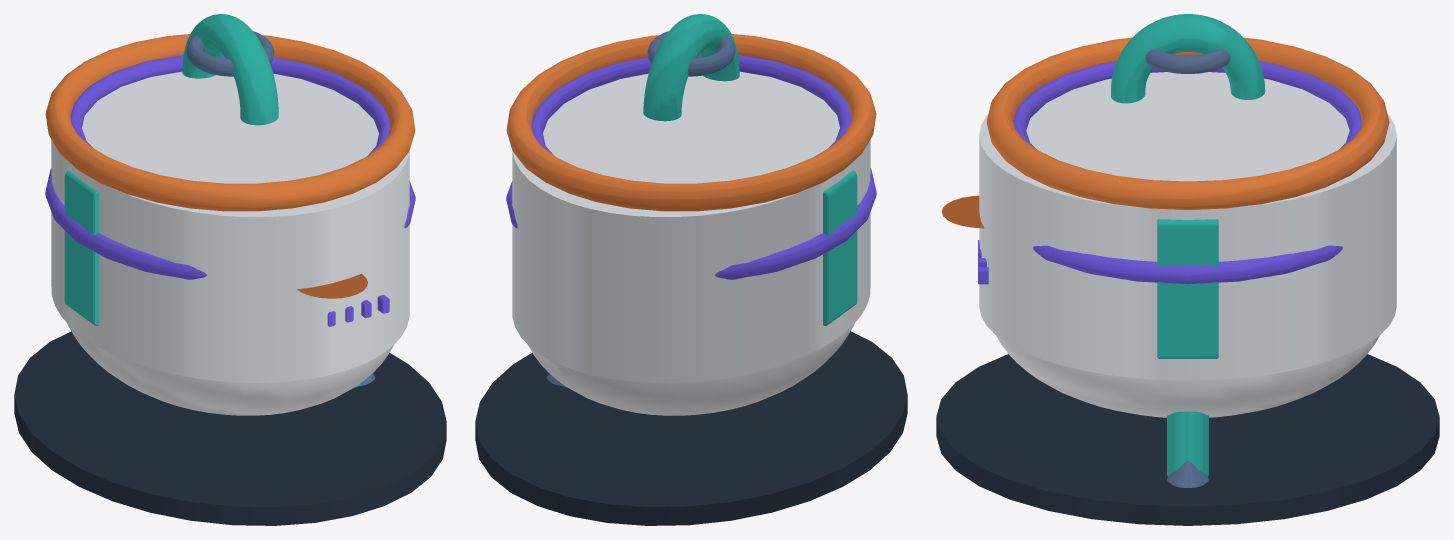
The model's file is 0931_秦汉图鉴_博山炉.glb.
3 renders of one model, left to right at view 1: azimuth 30°, elevation 25°; view 2: azimuth 150°, elevation 25°; view 3: azimuth 270°, elevation 25°, orthographic. The views are drawn at different scales.
Parts seen in each view (by area): view 1: card_0931; view 2: card_0931; view 3: card_0931.
Boxes of the visible parts, x1,y1,x2,y2 form: card_0931: (14,14,446,525); card_0931: (475,14,907,525); card_0931: (936,14,1439,525).
Size of the model in its own units: 0.8836 by 1 by 1.05.
